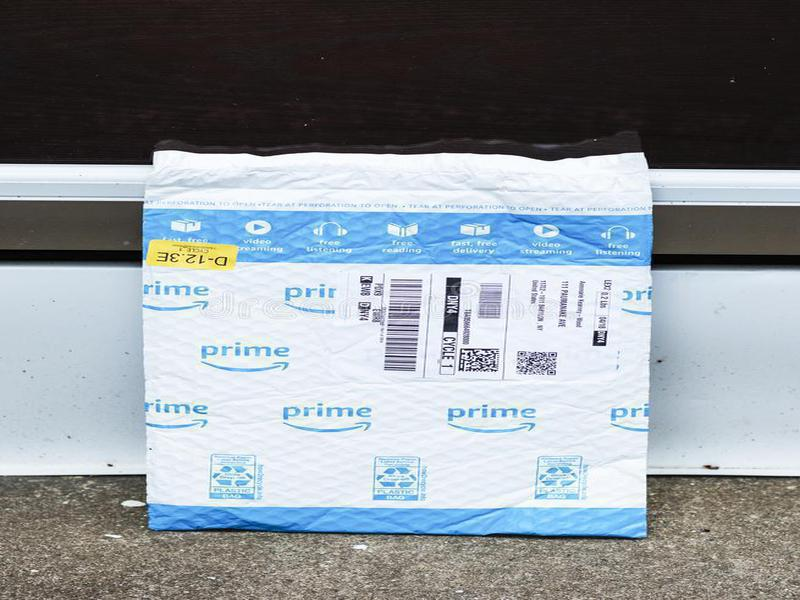package: (127, 131, 665, 550)
